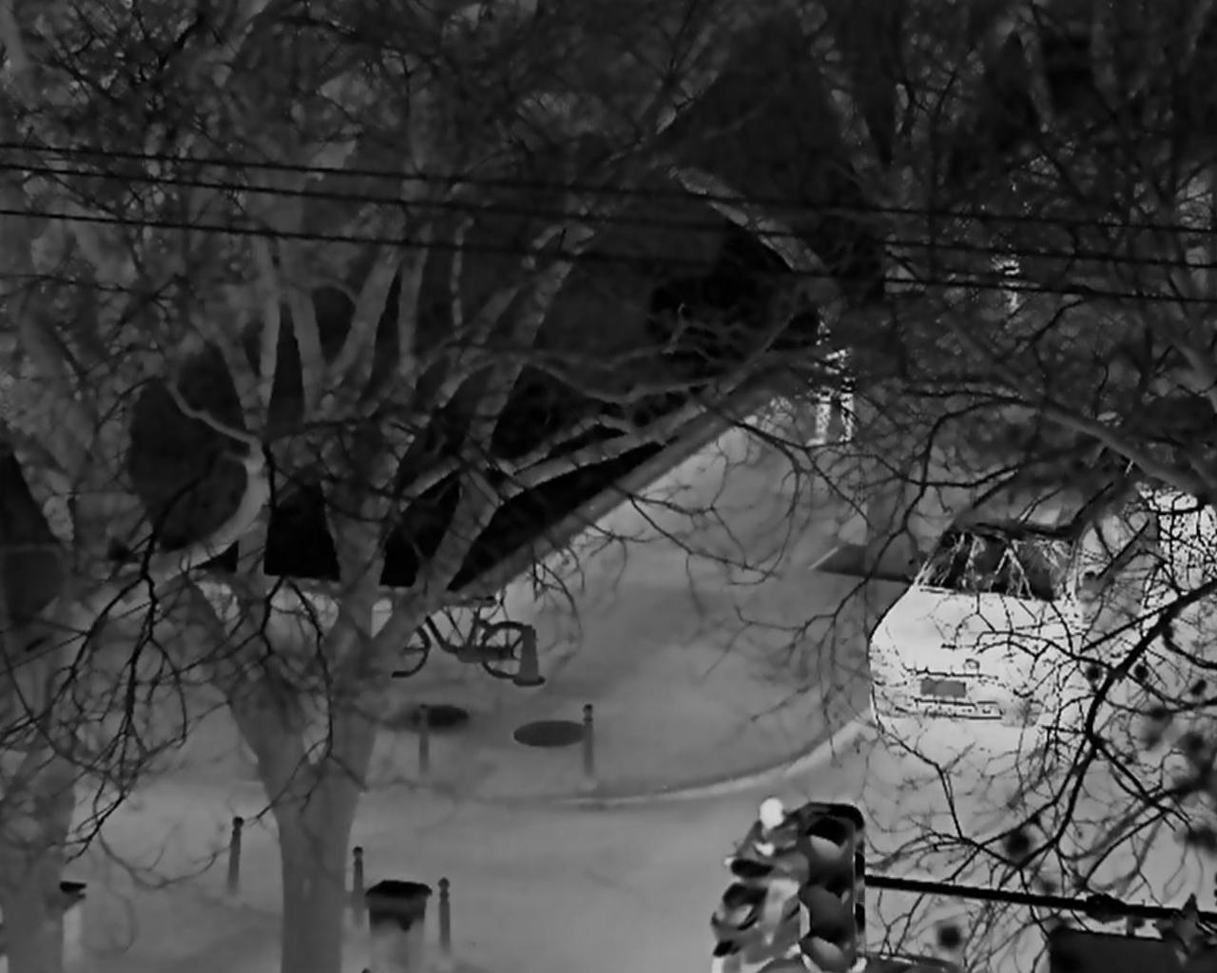person: (723, 798, 811, 947)
